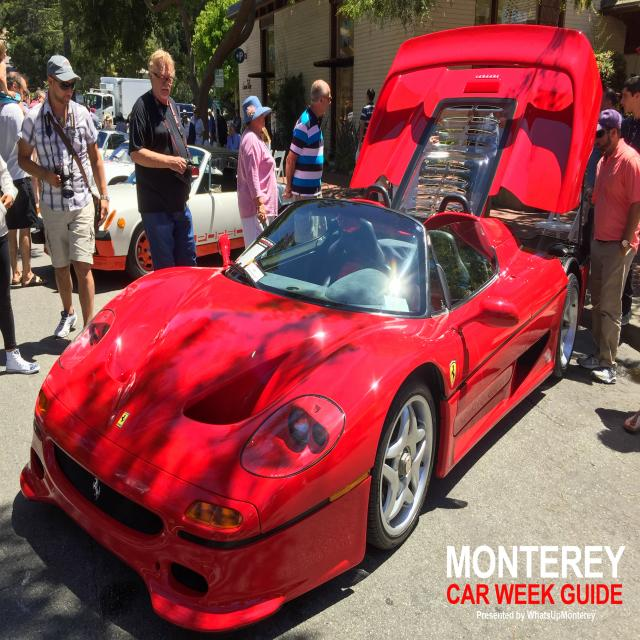car: (19, 191, 581, 630)
person: (21, 54, 110, 336), (125, 50, 200, 262), (589, 115, 640, 390), (236, 89, 286, 238), (287, 73, 340, 195)
